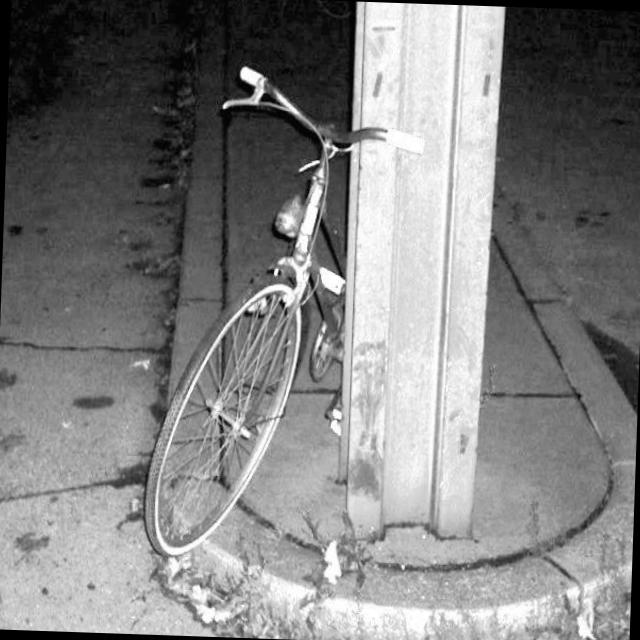Bicycle: (101, 61, 414, 640)
